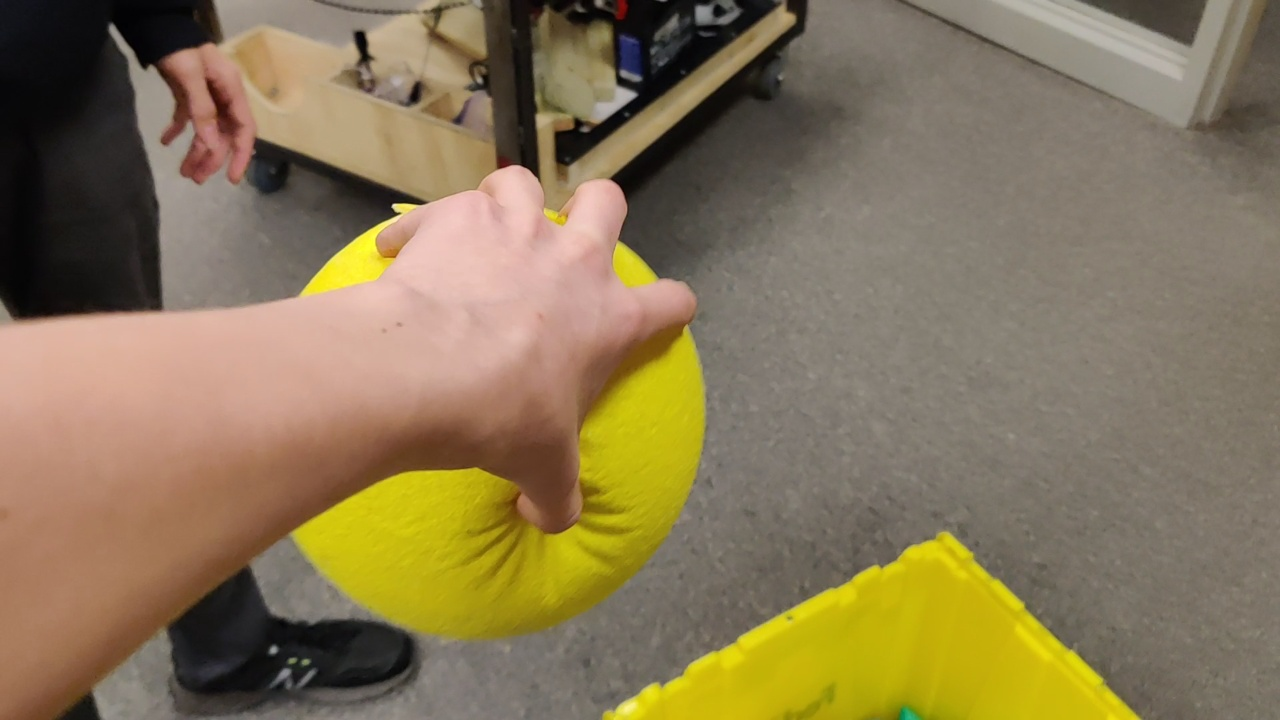Ball: (282, 321, 706, 640)
